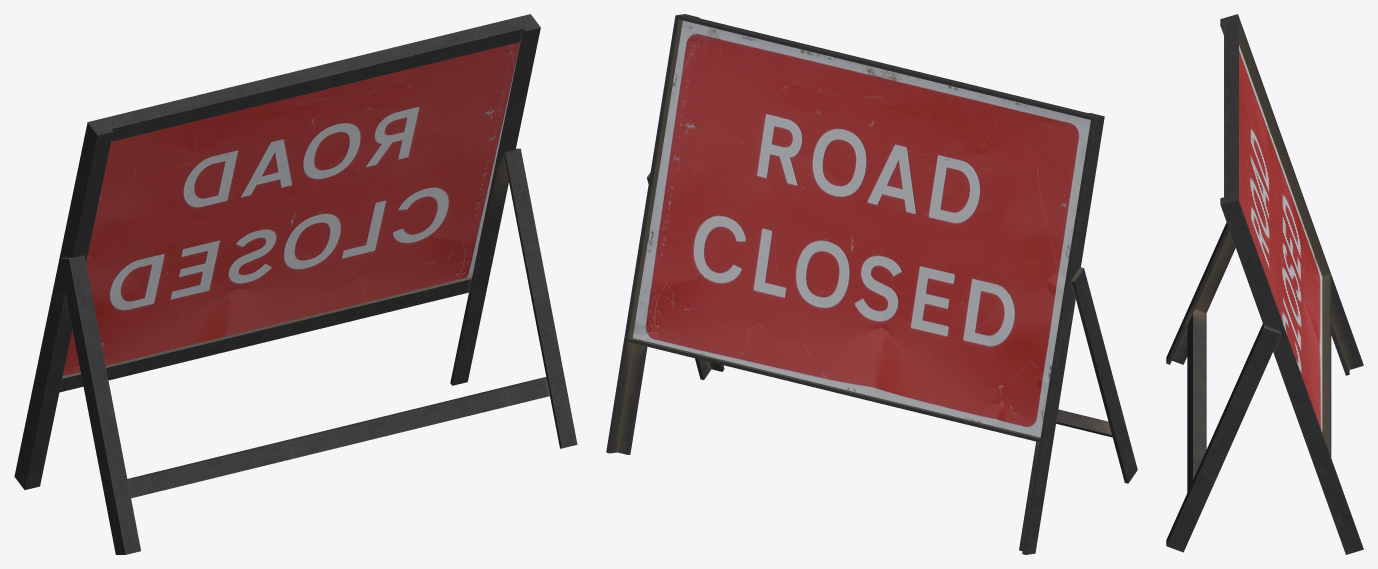
File: road-closed-sign-new.glb
The picture shows the model from 3 angles, left to right: view 1: azimuth 30°, elevation 25°; view 2: azimuth 150°, elevation 25°; view 3: azimuth 270°, elevation 25°; orthographic projection. The views are drawn at different scales.
Visible parts, largest first — view 1: Object_46, Object_40, Object_43; view 2: Object_46, Object_40, Object_43; view 3: Object_40, Object_46, Object_43.
Boxes of the visible parts, box(x1,y1,x2,y2) form: Object_46: box(63, 42, 520, 375); Object_40: box(14, 14, 540, 489); Object_43: box(59, 148, 577, 554); Object_46: box(632, 20, 1090, 437); Object_40: box(606, 14, 1104, 554); Object_43: box(647, 172, 1137, 483); Object_40: box(1220, 14, 1363, 554); Object_46: box(1239, 45, 1322, 432); Object_43: box(1166, 222, 1280, 552).
Bounding box in the file's own units: 0.9248 × 0.8102 × 0.407.
1 material, 1 textured.
